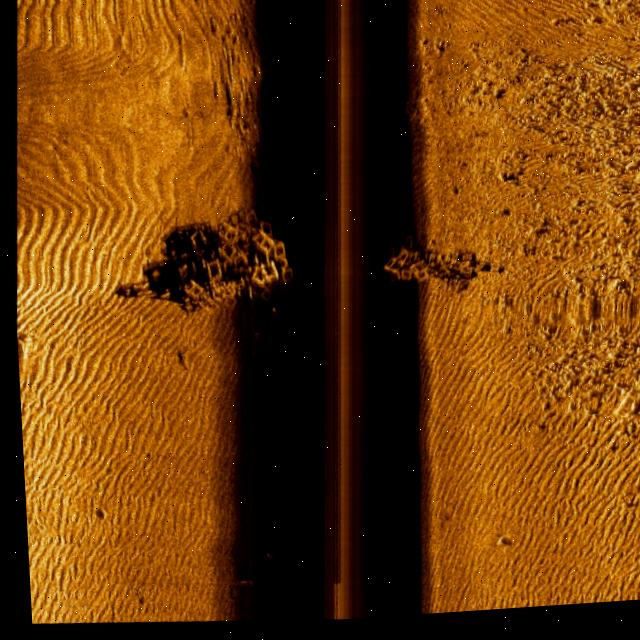artificial reef: (165, 206, 302, 341), (371, 232, 481, 311)
